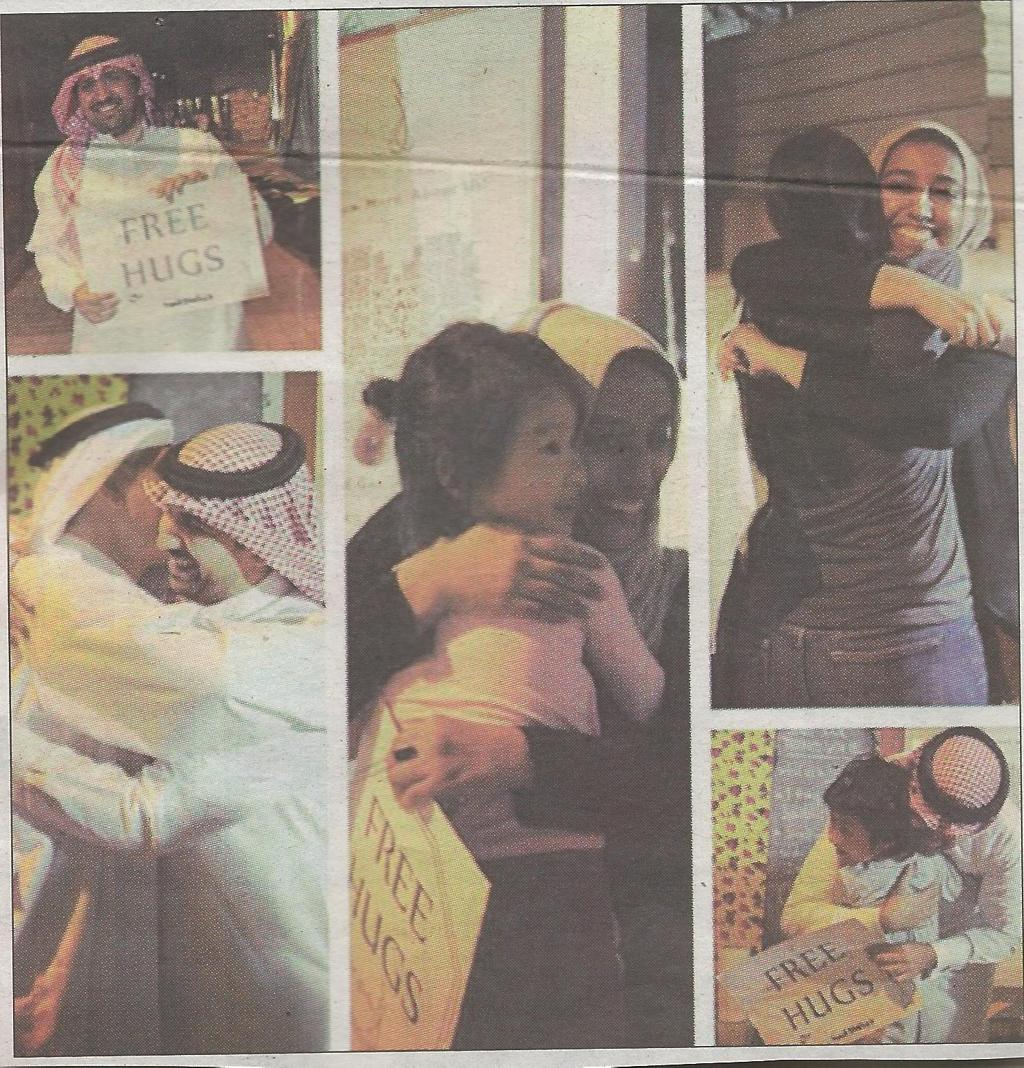face: (561, 359, 674, 553), (465, 392, 586, 530), (882, 140, 963, 271), (161, 478, 244, 597), (73, 60, 142, 135), (826, 801, 880, 872)
